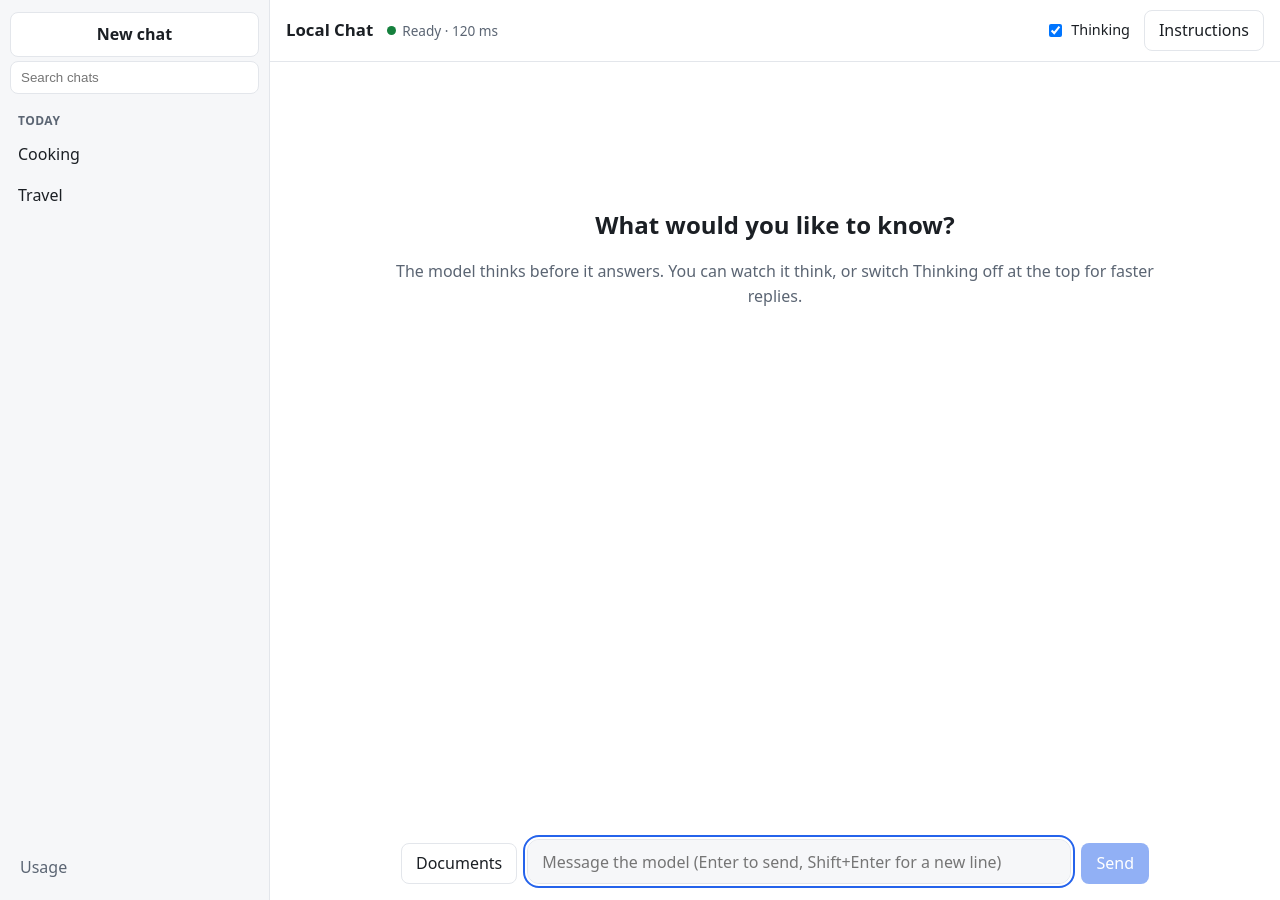
search and export › searches chats by text and shows where it matched
Expected: the button "Cooking" is shown, [10,134,259,175]
Type "saffron" into the search field labelled "Search chats" at (134, 77), box [10,61,259,94]
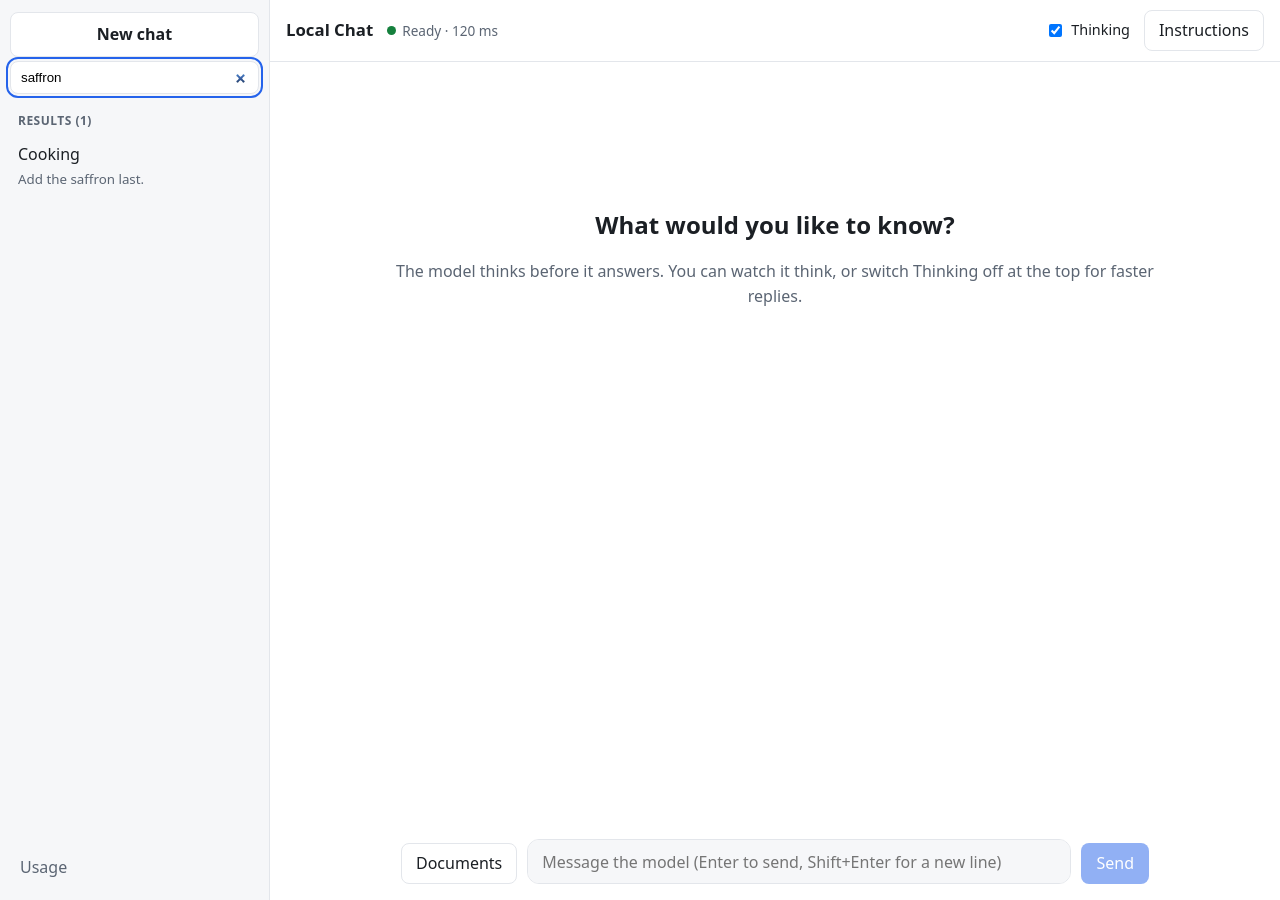
Now the heading "Results (1)" is shown, box [18,112,92,129]
Now the text "Add the saffron last." is shown, box [18,170,144,188]
Now the button "Travel" is gone
Clear the search field named "Search chats" at (134, 77), box [10,61,259,94]
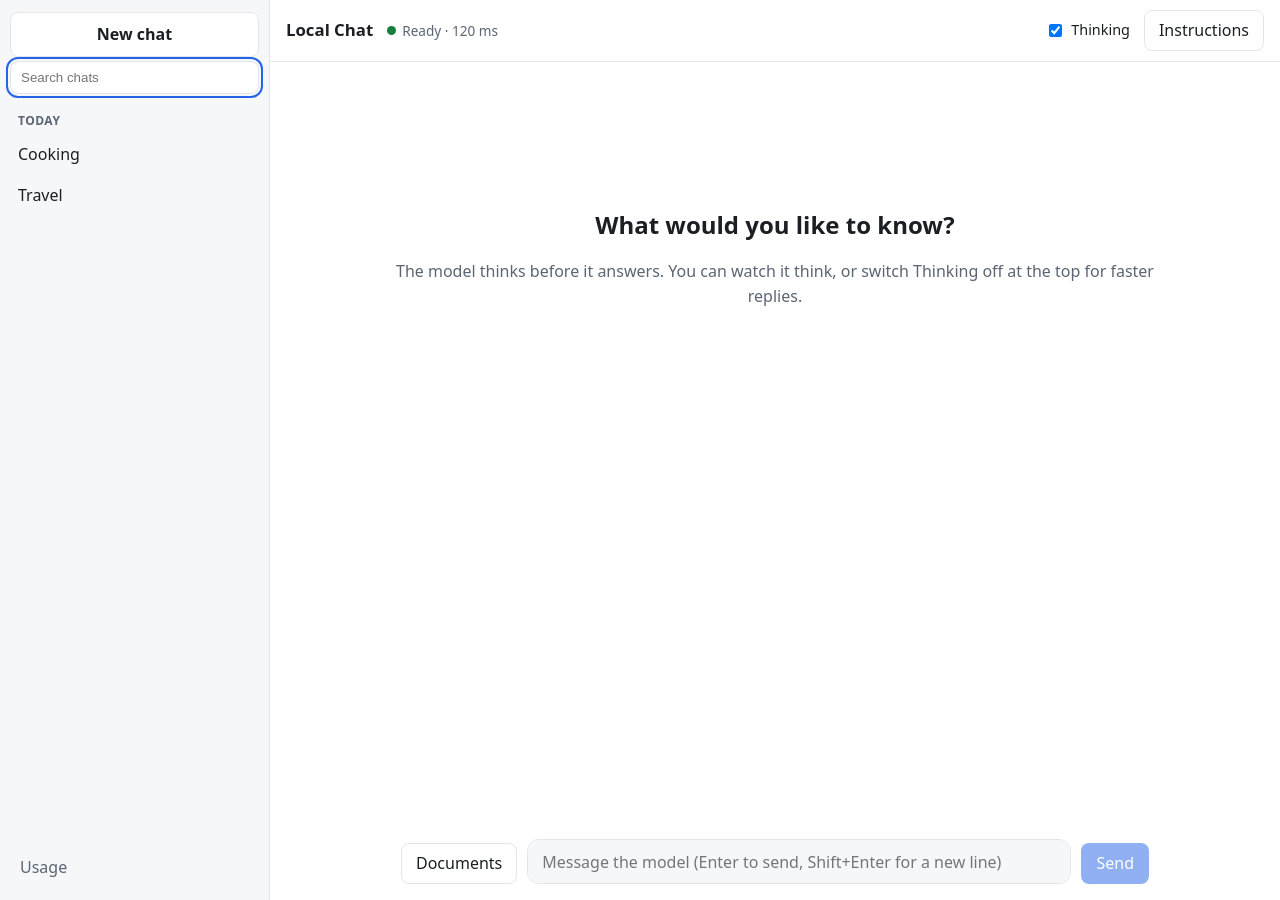
Now the button "Travel" is shown, box [10,175,259,216]
Now the heading "Results" is gone
Type "zzz" into the search field labelled "Search chats" at (134, 77), box [10,61,259,94]
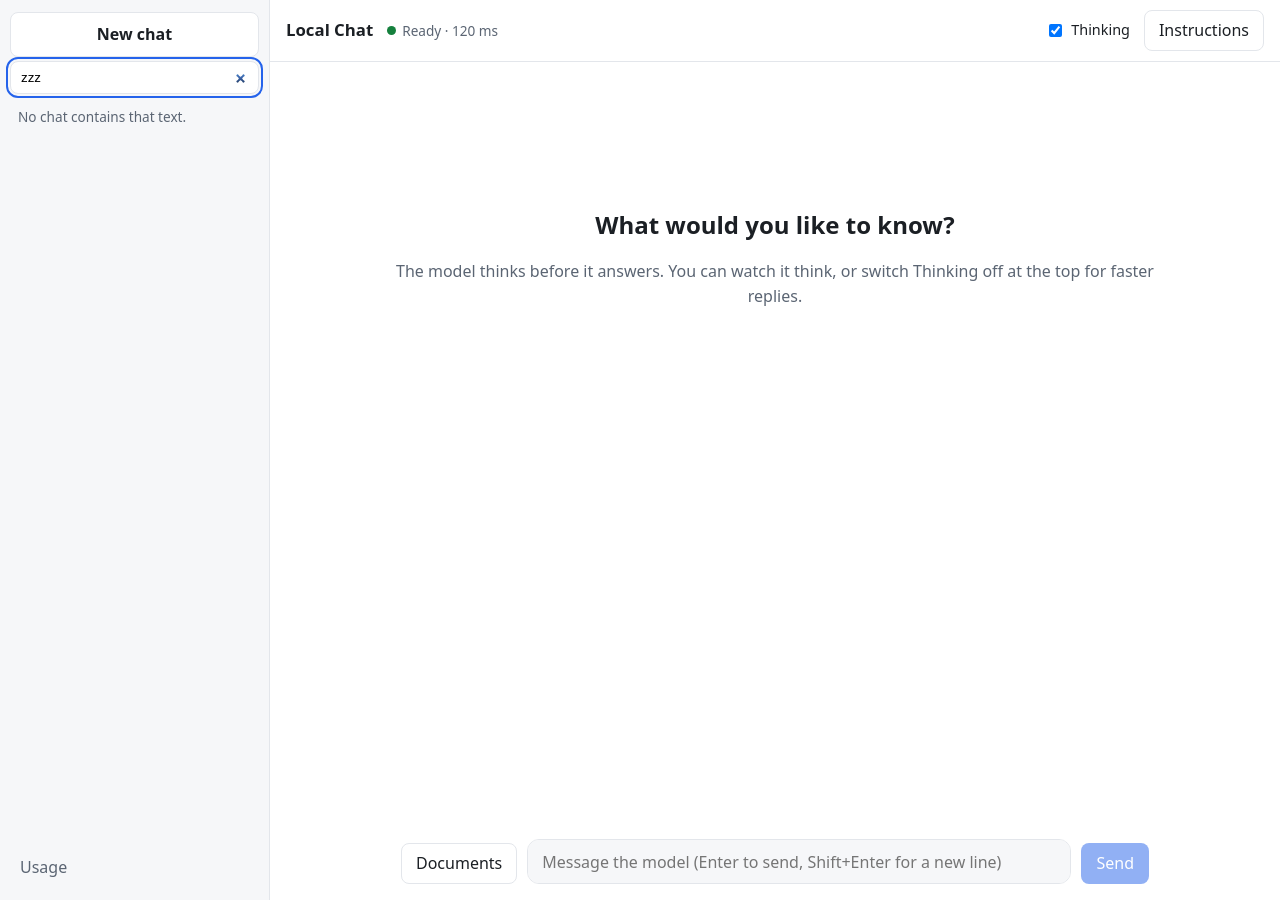
Now the text "No chat contains that text." is shown, box [18,107,186,126]
